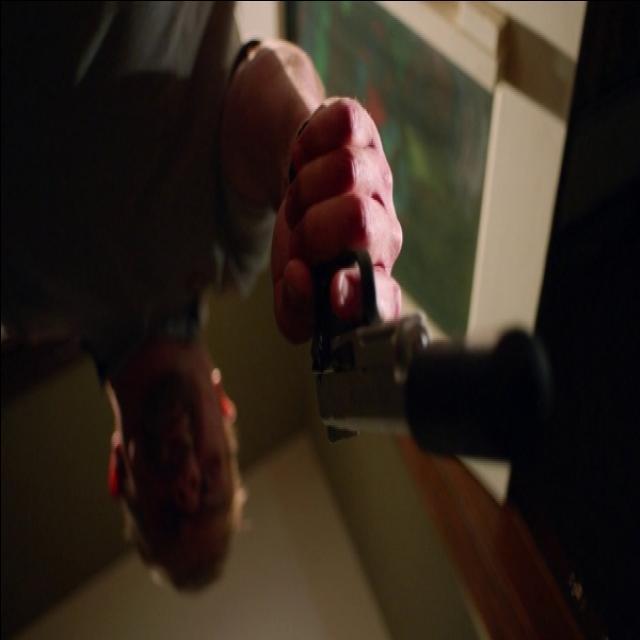weapons: (289, 166, 563, 498)
